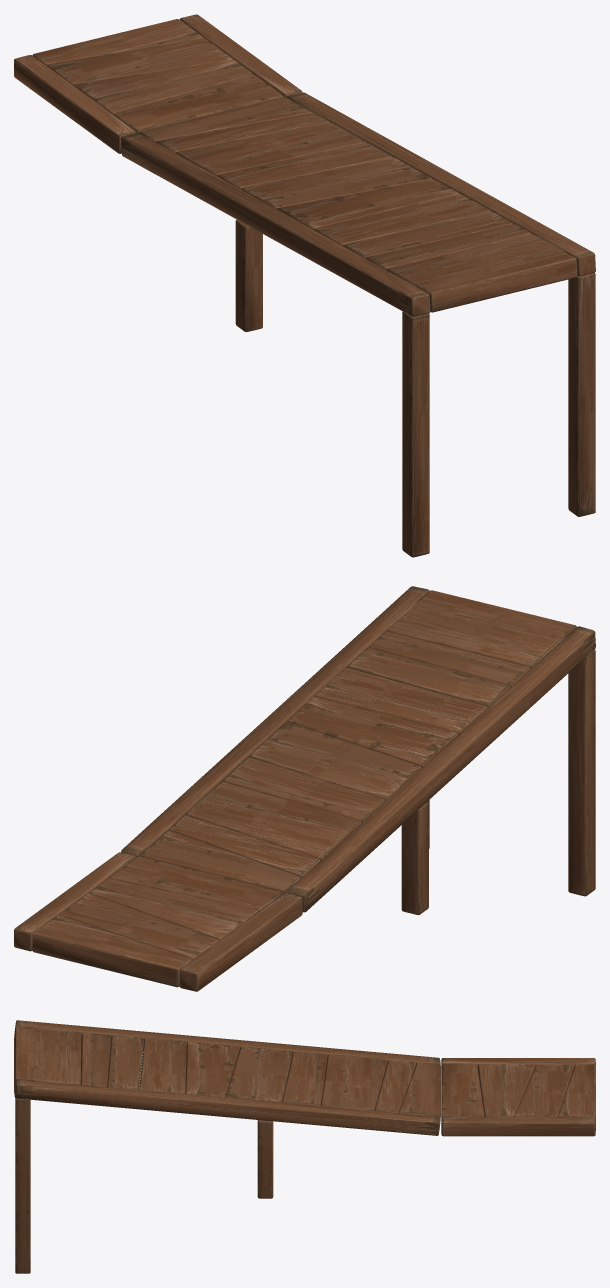
The model's file is Trampoline.fbx.
3 renders of one model, top to bottom at view 1: azimuth 30°, elevation 25°; view 2: azimuth 150°, elevation 25°; view 3: azimuth 270°, elevation 25°, orthographic. The views are drawn at different scales.
Visible parts, largest first — view 1: Trampoline; view 2: Trampoline; view 3: Trampoline.
Boxes of the visible parts, left/top/right/bottom form: Trampoline: left=14, top=14, right=595, bottom=557; Trampoline: left=14, top=586, right=595, bottom=991; Trampoline: left=14, top=1020, right=595, bottom=1273.
Size of the model in its own units: 10 by 13.48 by 37.57.
1 material, 1 textured.
